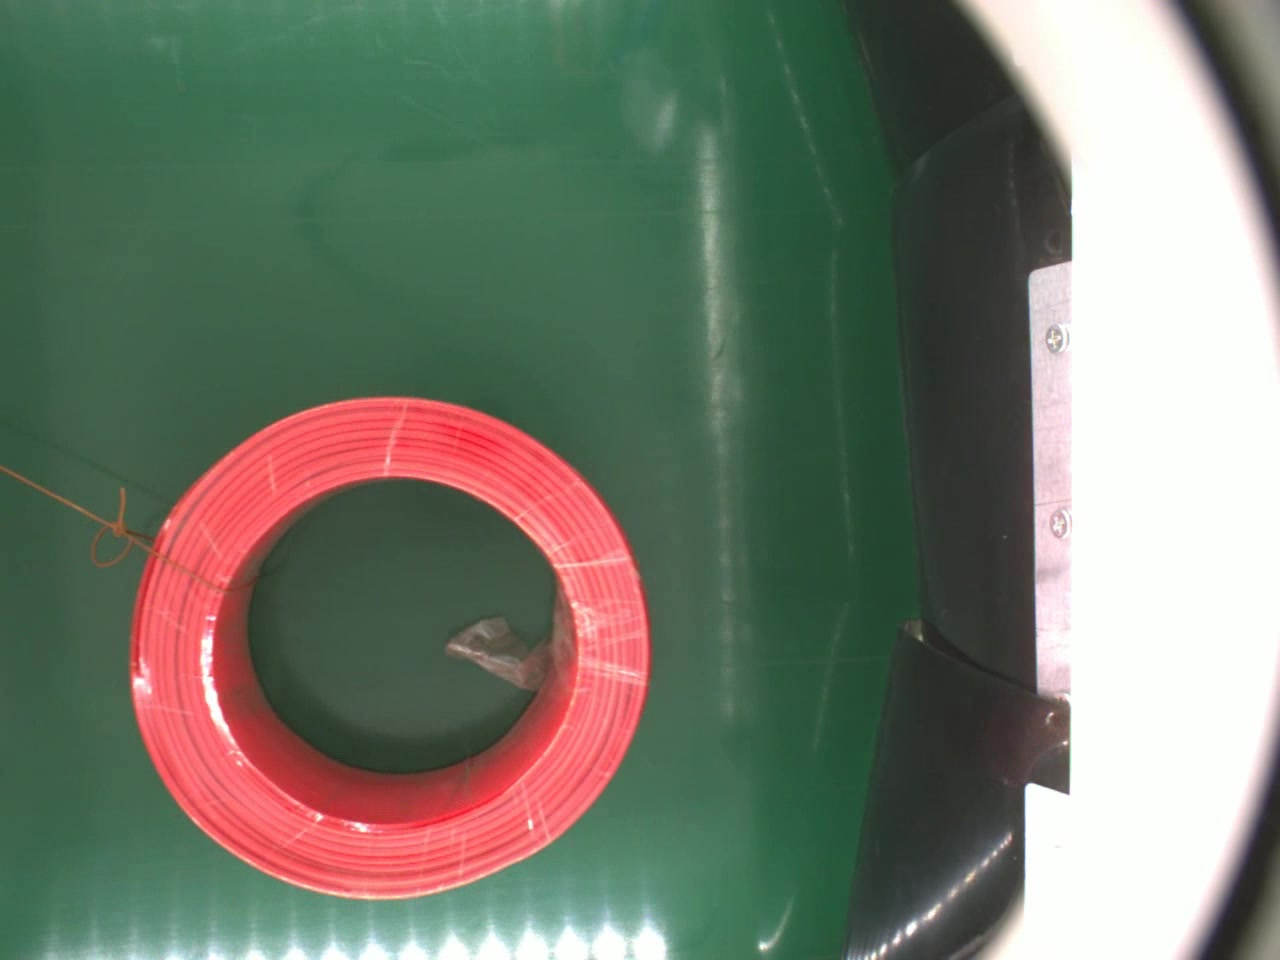red: (124, 395, 654, 899)
